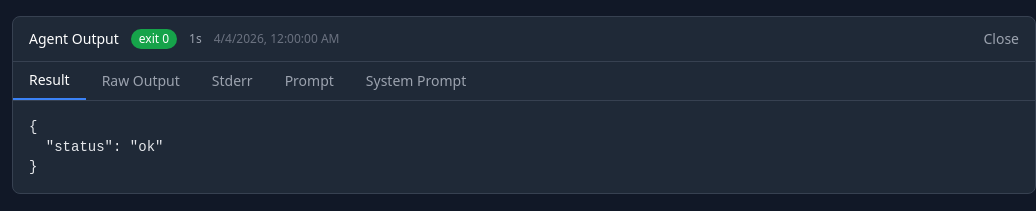
AgentOutputPanel › shows system prompt in a dedicated tab when captured
Expected: the button "System Prompt" is shown, [350,62,482,100]
Click the button "Prompt". click: coordinates (309, 81)
box: [269,62,350,100]
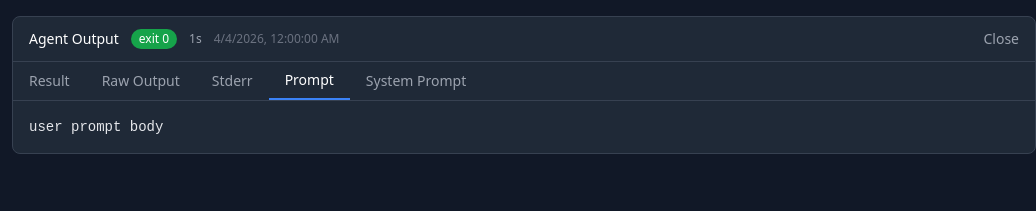
Expected: the text "system prompt body" is not shown
Now the text "user prompt body" is shown, box [29,119,163,135]
Click the button "System Prompt". click: coordinates (416, 81)
box: [350,62,482,100]
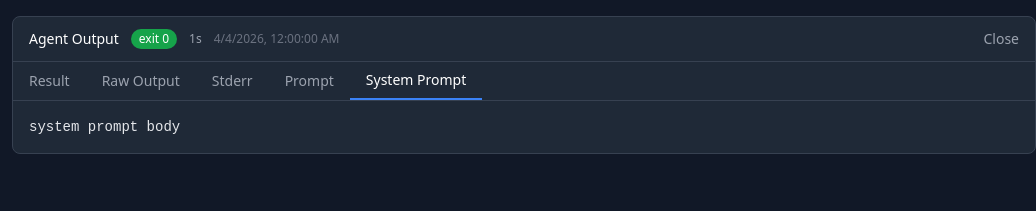
Now the text "system prompt body" is shown, box [29,119,180,135]
